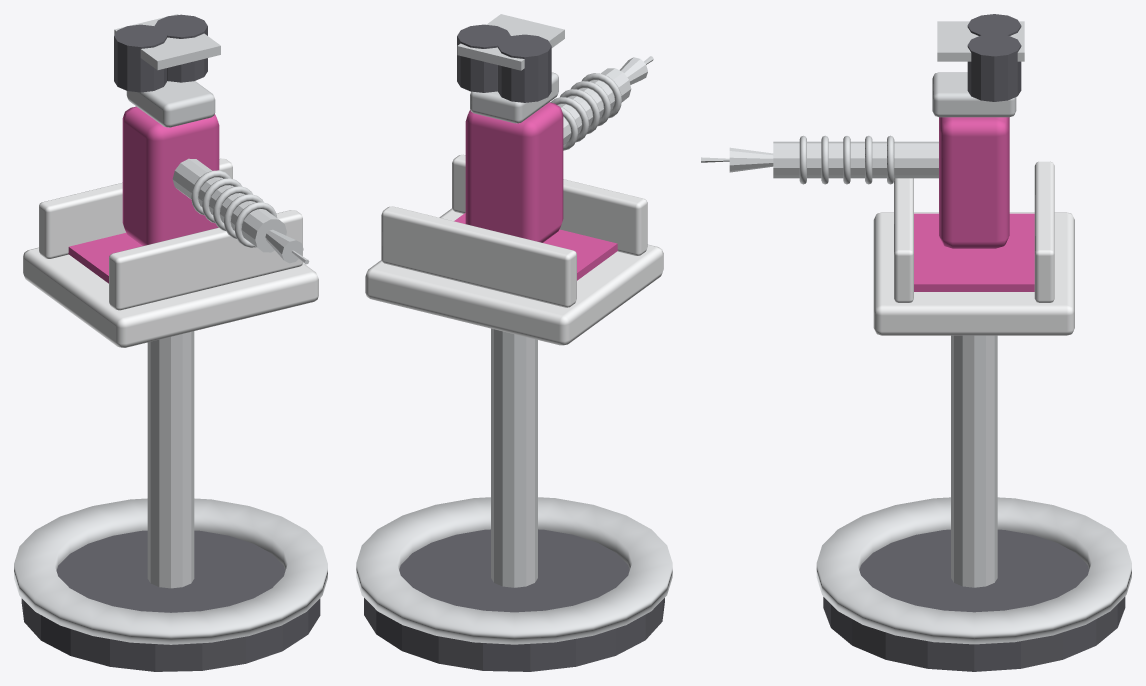
The model's file is tattoo-and-piercing-studio-tattoo-machine-stand-magent-1b7ff4a8__34521.glb.
3 renders of one model, left to right at view 1: azimuth 30°, elevation 25°; view 2: azimuth 150°, elevation 25°; view 3: azimuth 270°, elevation 25°, orthographic.
Visible parts, largest first — view 1: tattoo-machine-stand-magenta; view 2: tattoo-machine-stand-magenta; view 3: tattoo-machine-stand-magenta.
Part boxes in pixels (<box>): tattoo-machine-stand-magenta: <box>14,14,327,671</box>; tattoo-machine-stand-magenta: <box>356,14,672,671</box>; tattoo-machine-stand-magenta: <box>701,14,1131,671</box>.
Size of the model in its own units: 0.188 by 0.3772 by 0.257.
